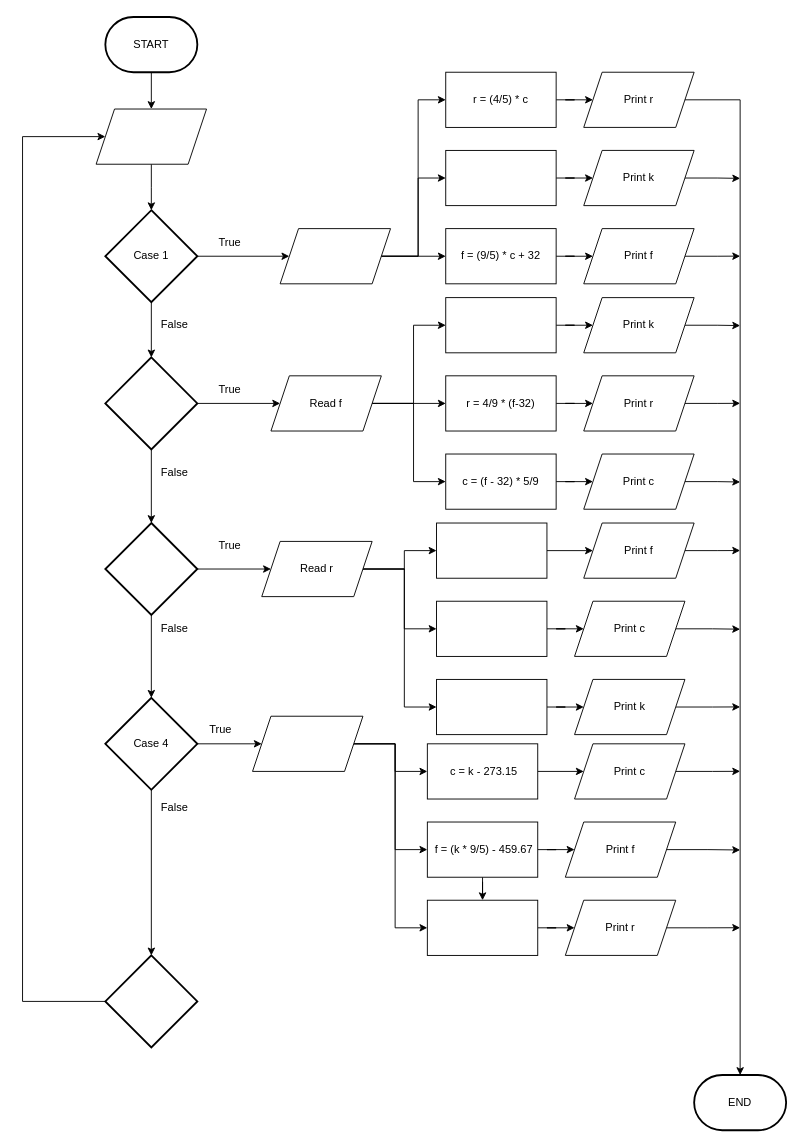
This 803x1146 diagram has some shape labels left out. Each missing label, with the centre of its shape:
"c = r / 0.8" belongs at point (491, 628).
"Case 2" belongs at point (151, 403).
"Case 3" belongs at point (151, 568).
"Case _" belongs at point (151, 1001).
"f = (r * 2.25) + 32" belongs at point (491, 550).
"k = (f + 459.67) * 5/9" belongs at point (500, 325).
"k = (r / 0.8) + 273.15" belongs at point (491, 706).
"k = c + 273.15" belongs at point (500, 178).
"r = 4/5 *(k - 273)" belongs at point (482, 927).
"Read c" belongs at point (335, 256).
"Read k" belongs at point (307, 743).
"Read put" belongs at point (151, 136).
